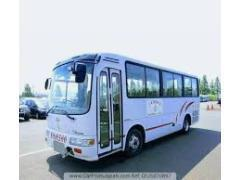bus: (47, 53, 201, 161)
